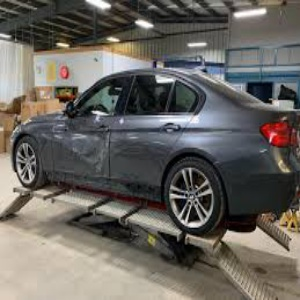door_scratch: (59, 126, 167, 191)
